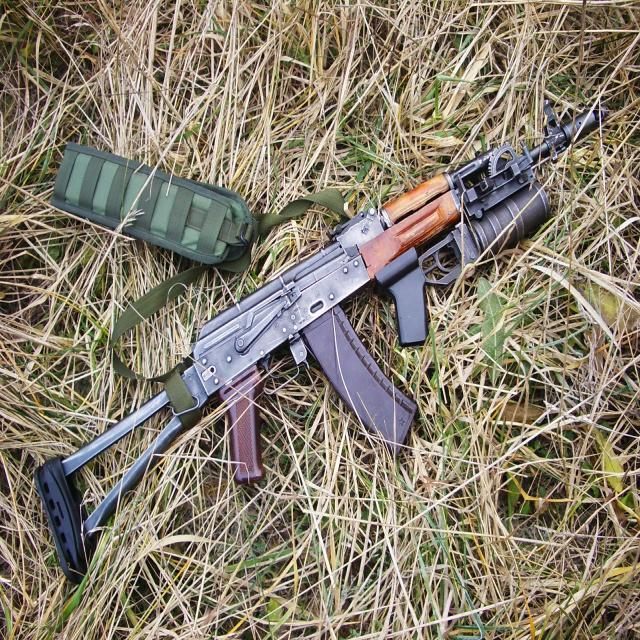firearm: (34, 99, 600, 581)
